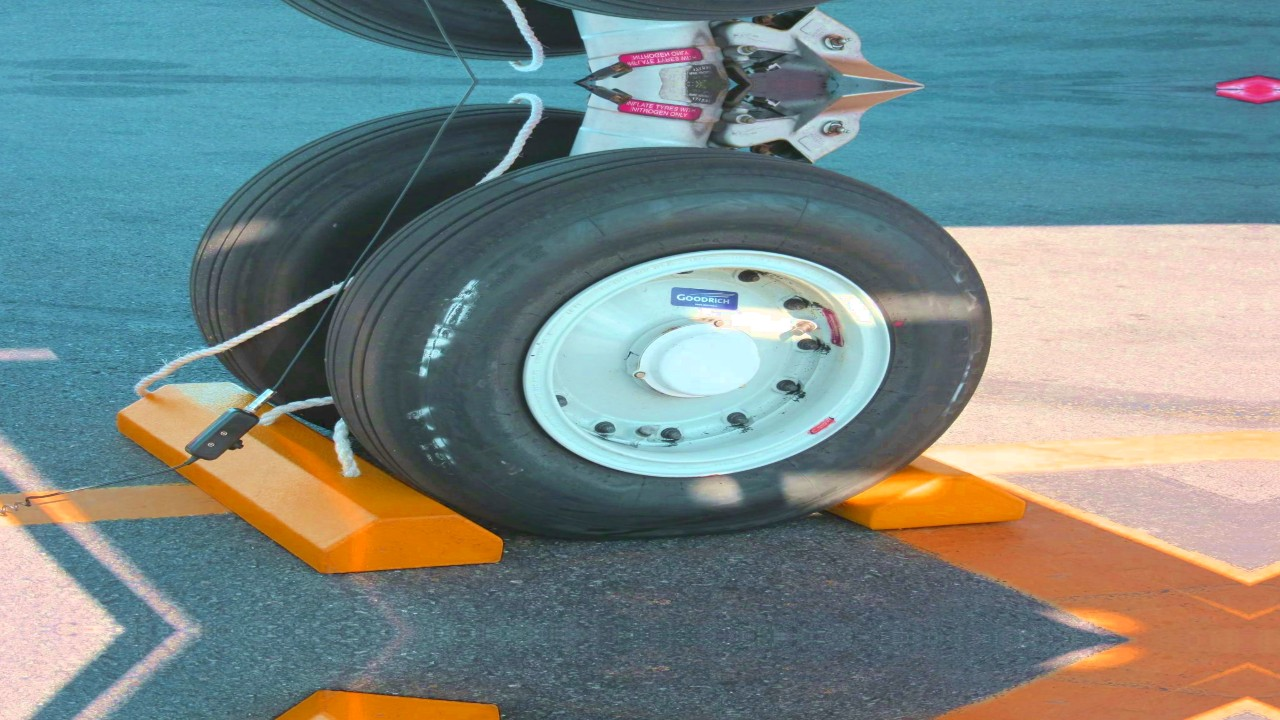chock: (111, 368, 509, 576), (702, 374, 1030, 528)
wheel: (328, 144, 997, 538), (193, 100, 571, 413)
